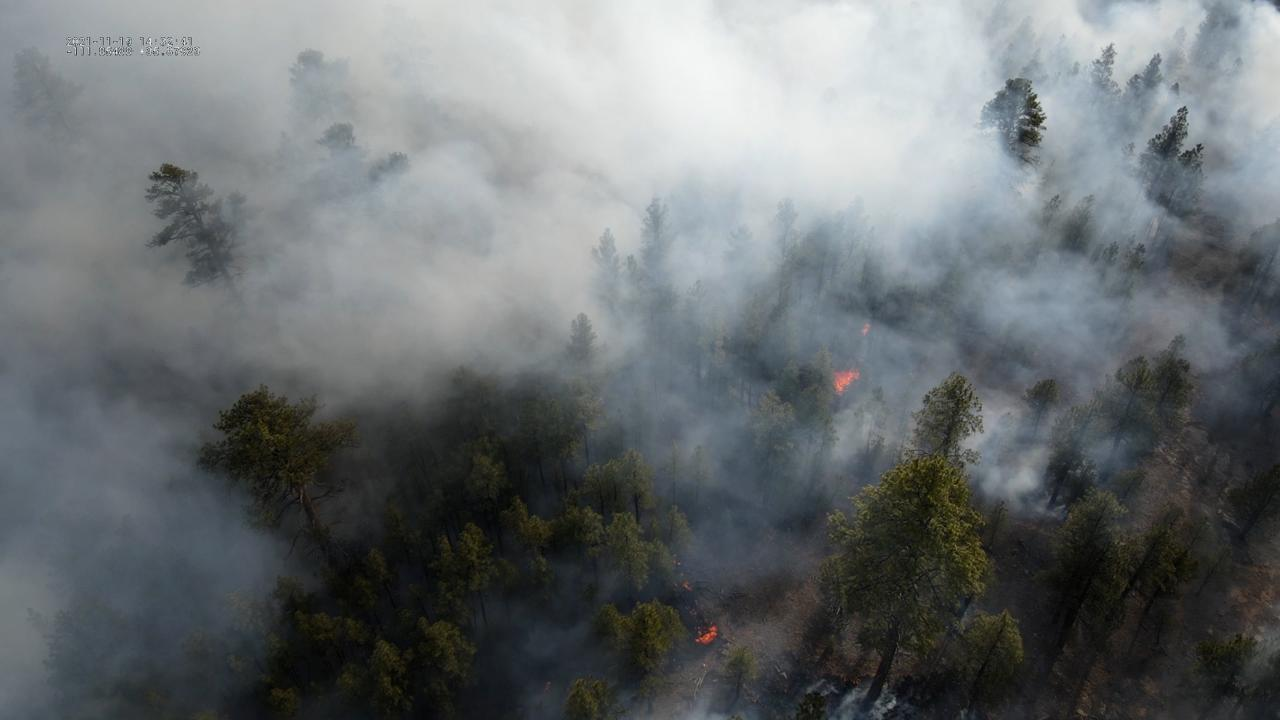fire: (829, 370, 863, 395), (693, 622, 720, 647), (678, 579, 695, 593), (860, 322, 872, 337), (543, 680, 553, 694), (673, 558, 680, 566)
smoke: (0, 0, 1280, 720)
